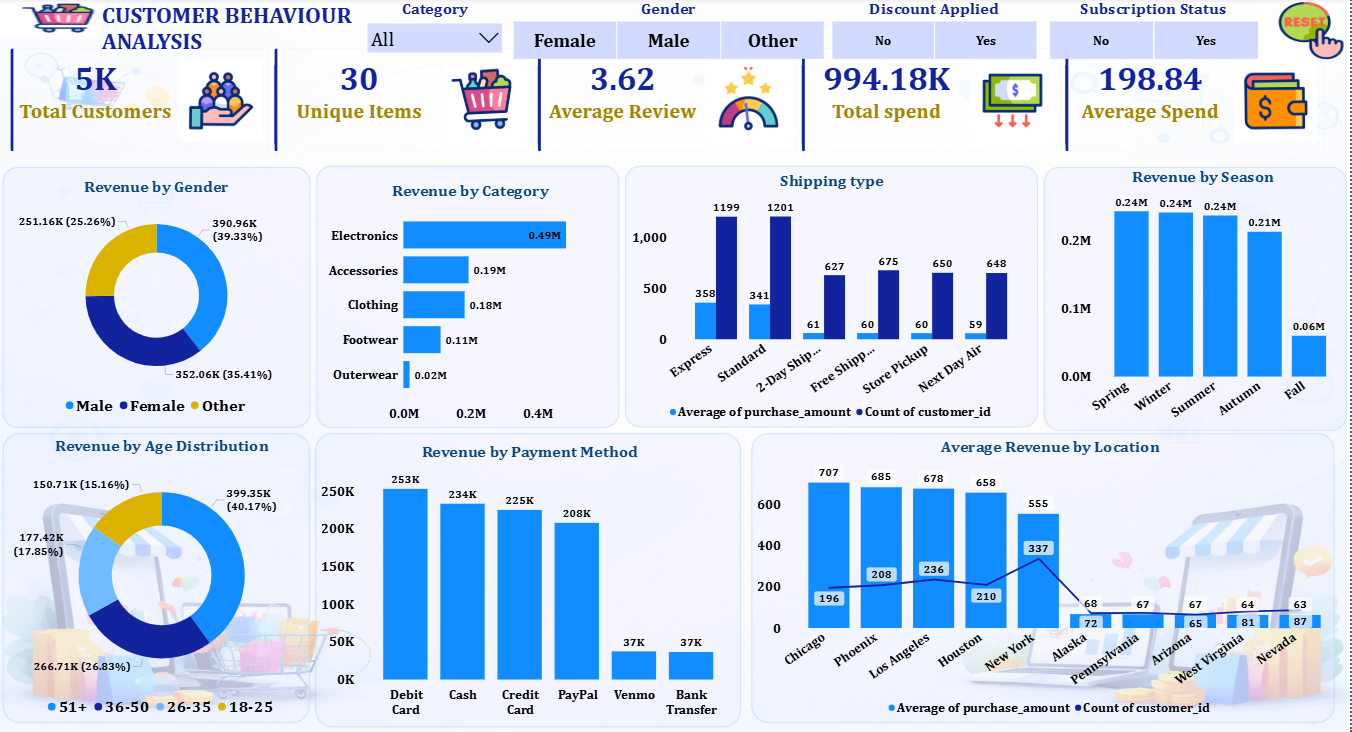

The dashboard page shown, as its layout file describes it:
{"tool":"powerbi","page":{"name":"Customer Analysis Revenue","canvas":[2200,1200],"ordinal":0},"visuals":[{"type":"cardVisual","fields":{"Data":["Measure Table.Total Customers","Measure Table.Unique Items","Measure Table.Average Review","Measure Table.Total spend","Measure Table.Average Spend"]},"box":[0,66,2179.3,202.8],"z":0},{"type":"shape","box":[511.8,268.9,502.4,436.3],"z":1000,"group":"g3"},{"type":"group","id":"g1","title":"Group 1","box":[0,271.2,509.4,434],"z":1000},{"type":"shape","box":[0,271.2,510.2,434.2],"z":1000,"group":"g1"},{"type":"shape","box":[0,705.2,509.4,481.1],"z":1000,"group":"g5"},{"type":"shape","box":[509.4,705.2,702.8,488.2],"z":1000,"group":"g6"},{"type":"group","id":"g2","title":"Group 2","box":[1014.2,268.9,681.6,436.3],"z":2000},{"type":"donutChart","title":"Revenue by Gender","fields":{"Category":["shopping_data.gender"],"Y":["Sum(shopping_data.purchase_amount)"]},"box":[20.1,291.4,469.9,397.8],"z":2000,"group":"g1"},{"type":"donutChart","title":"Revenue by Age Distribution","fields":{"Y":["Sum(shopping_data.purchase_amount)"],"Category":["shopping_data.age (groups)"]},"box":[18.7,713.6,490.7,467.8],"z":2000,"group":"g5"},{"type":"clusteredColumnChart","title":"Revenue by Payment Method","fields":{"Y":["Sum(shopping_data.purchase_amount)"],"Category":["shopping_data.payment_method"]},"box":[519.6,722.6,687.8,456.8],"z":2000,"group":"g6"},{"type":"group","id":"g3","title":"Group 3","box":[511.8,268.9,502.4,436.3],"z":3000},{"type":"barChart","title":"Revenue by Category","fields":{"Category":["shopping_data.category"],"Y":["Sum(shopping_data.purchase_amount)"]},"box":[527.9,296.4,477.9,400.9],"z":3000,"group":"g3"},{"type":"shape","box":[1014.2,268.9,681.6,435.6],"z":4000,"group":"g2"},{"type":"group","id":"g4","title":"Group 4","box":[1698.1,271.2,502.4,438.7],"z":4000},{"type":"shape","box":[1698.1,271.2,502.4,438.7],"z":4000,"group":"g4"},{"type":"shape","box":[1221.7,705.2,959.2,481.1],"z":4000,"group":"g7"},{"type":"clusteredColumnChart","title":"Revenue by Season","fields":{"Y":["Measure Table.Total spend"],"Category":["shopping_data.season"]},"box":[1724.2,274.8,474.1,429.3],"z":5000,"group":"g4"},{"type":"clusteredColumnChart","title":"Shipping type","fields":{"Y":["Avg(shopping_data.purchase_amount)","CountNonNull(shopping_data.customer_id)"],"Category":["shopping_data.shipping_type"]},"box":[1026.6,281.7,657.4,416.7],"z":5000,"group":"g2"},{"type":"group","id":"g5","title":"Group 1","box":[0,705.2,509.4,481.1],"z":5000},{"type":"lineClusteredColumnComboChart","title":"Average Revenue by Location","fields":{"Y":["Avg(shopping_data.purchase_amount)"],"Category":["shopping_data.location"],"Y2":["CountNonNull(shopping_data.customer_id)"]},"box":[1232.8,716.1,963,464.4],"z":5000,"group":"g7"},{"type":"group","id":"g6","title":"Group 1","box":[509.4,705.2,702.8,488.2],"z":6000},{"type":"group","id":"g7","title":"Group 2","box":[1221.7,705.2,974.1,481.1],"z":7000},{"type":"textbox","box":[160.4,0,429.2,106.2],"z":8000},{"type":"actionButton","box":[0,0,161.4,65.7],"z":9000},{"type":"slicer","title":"Category","fields":{"Values":["shopping_data.category"]},"box":[589.6,0,239.6,106.2],"z":10000},{"type":"slicer","title":"Gender","fields":{"Values":["shopping_data.gender"]},"box":[810.4,0,556.2,106.2],"z":11000},{"type":"slicer","title":"Discount Applied","fields":{"Values":["shopping_data.discount_applied"]},"box":[1331.2,0,383.3,106.2],"z":12000},{"type":"slicer","title":"Subscription Status","fields":{"Values":["shopping_data.discount_applied"]},"box":[1685.4,0,389.6,106.2],"z":13000},{"type":"actionButton","box":[2058.3,0,137.5,106.2],"z":14000}]}

Visuals, with their boxes in screenshot pixels (x1, y1, x2, y2), scaled from the page's 2200x1200 canvas onto the 1352x732 screenshot:
cardVisual - Measure Table.Total Customers x Measure Table.Unique Items: <bbox>0, 40, 1339, 164</bbox>
shape: <bbox>315, 164, 623, 430</bbox>
"Group 1" group: <bbox>0, 165, 313, 430</bbox>
shape: <bbox>0, 165, 314, 430</bbox>
shape: <bbox>0, 430, 313, 724</bbox>
shape: <bbox>313, 430, 745, 728</bbox>
"Group 2" group: <bbox>623, 164, 1042, 430</bbox>
"Revenue by Gender" donutChart: <bbox>12, 178, 301, 420</bbox>
"Revenue by Age Distribution" donutChart: <bbox>11, 435, 313, 721</bbox>
"Revenue by Payment Method" clusteredColumnChart: <bbox>319, 441, 742, 719</bbox>
"Group 3" group: <bbox>315, 164, 623, 430</bbox>
"Revenue by Category" barChart: <bbox>324, 181, 618, 425</bbox>
shape: <bbox>623, 164, 1042, 430</bbox>
"Group 4" group: <bbox>1044, 165, 1351, 433</bbox>
shape: <bbox>1044, 165, 1351, 433</bbox>
shape: <bbox>751, 430, 1340, 724</bbox>
"Revenue by Season" clusteredColumnChart: <bbox>1060, 168, 1351, 430</bbox>
"Shipping type" clusteredColumnChart: <bbox>631, 172, 1035, 426</bbox>
"Group 1" group: <bbox>0, 430, 313, 724</bbox>
"Average Revenue by Location" lineClusteredColumnComboChart: <bbox>758, 437, 1349, 720</bbox>
"Group 1" group: <bbox>313, 430, 745, 728</bbox>
"Group 2" group: <bbox>751, 430, 1349, 724</bbox>
textbox: <bbox>99, 0, 362, 65</bbox>
actionButton: <bbox>0, 0, 99, 40</bbox>
"Category" slicer: <bbox>362, 0, 510, 65</bbox>
"Gender" slicer: <bbox>498, 0, 840, 65</bbox>
"Discount Applied" slicer: <bbox>818, 0, 1054, 65</bbox>
"Subscription Status" slicer: <bbox>1036, 0, 1275, 65</bbox>
actionButton: <bbox>1265, 0, 1349, 65</bbox>
